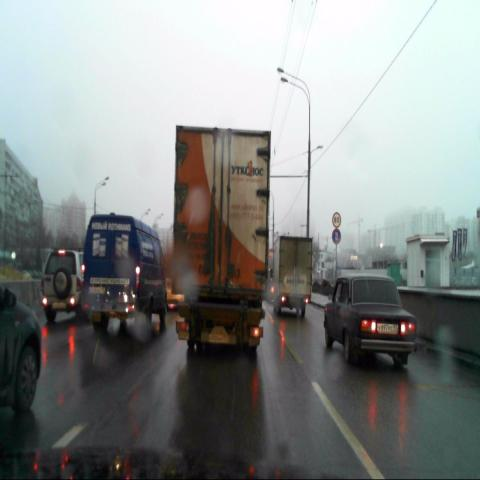3_30: (332, 228, 340, 244)
